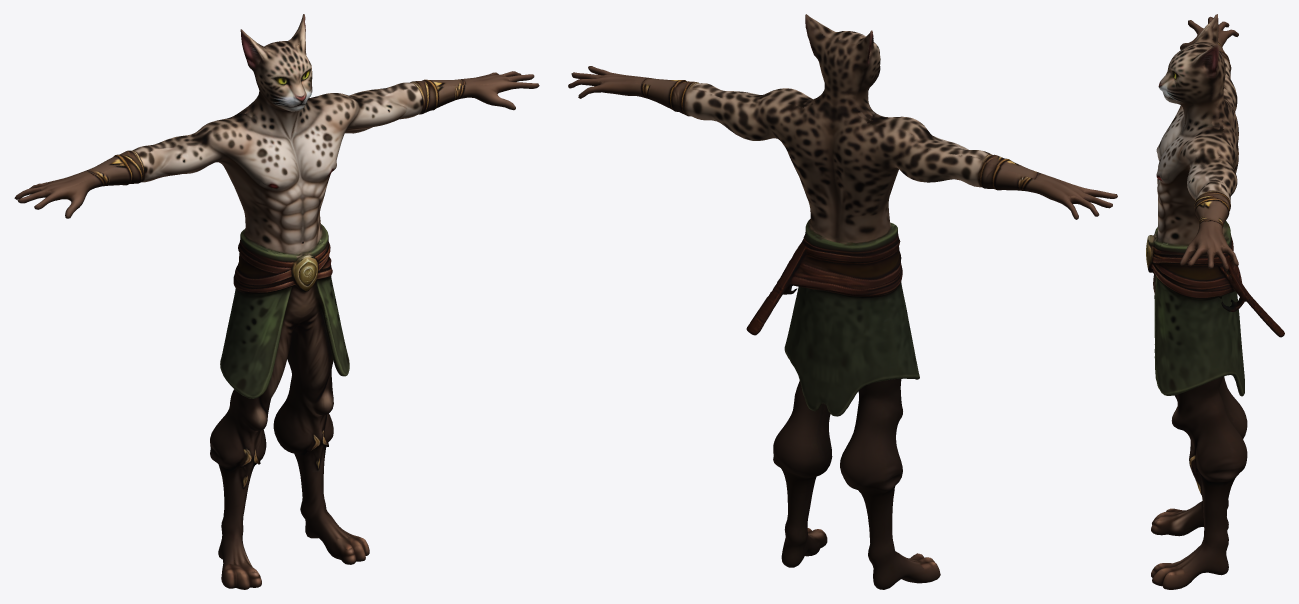
File: 159_cat_orig.glb
3 renders of one model, left to right at view 1: azimuth 30°, elevation 25°; view 2: azimuth 150°, elevation 25°; view 3: azimuth 270°, elevation 25°, orthographic. The views are drawn at different scales.
Parts seen in each view (by area): view 1: geometry_0.001; view 2: geometry_0.001; view 3: geometry_0.001.
Boxes of the visible parts, x1,y1,x2,y2 form: geometry_0.001: (14, 14, 539, 589); geometry_0.001: (568, 14, 1117, 589); geometry_0.001: (1146, 14, 1284, 589).
Bounding box in the file's own units: 1 × 0.9871 × 0.2351.
Materials: 1 (1 with a texture image).
